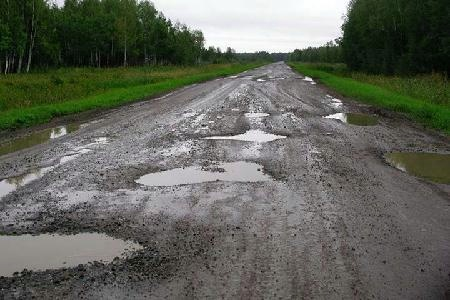pothole: (0, 225, 148, 281), (131, 157, 287, 187), (377, 145, 448, 182), (199, 127, 288, 143), (320, 106, 379, 127), (241, 108, 270, 117), (300, 73, 315, 83)
